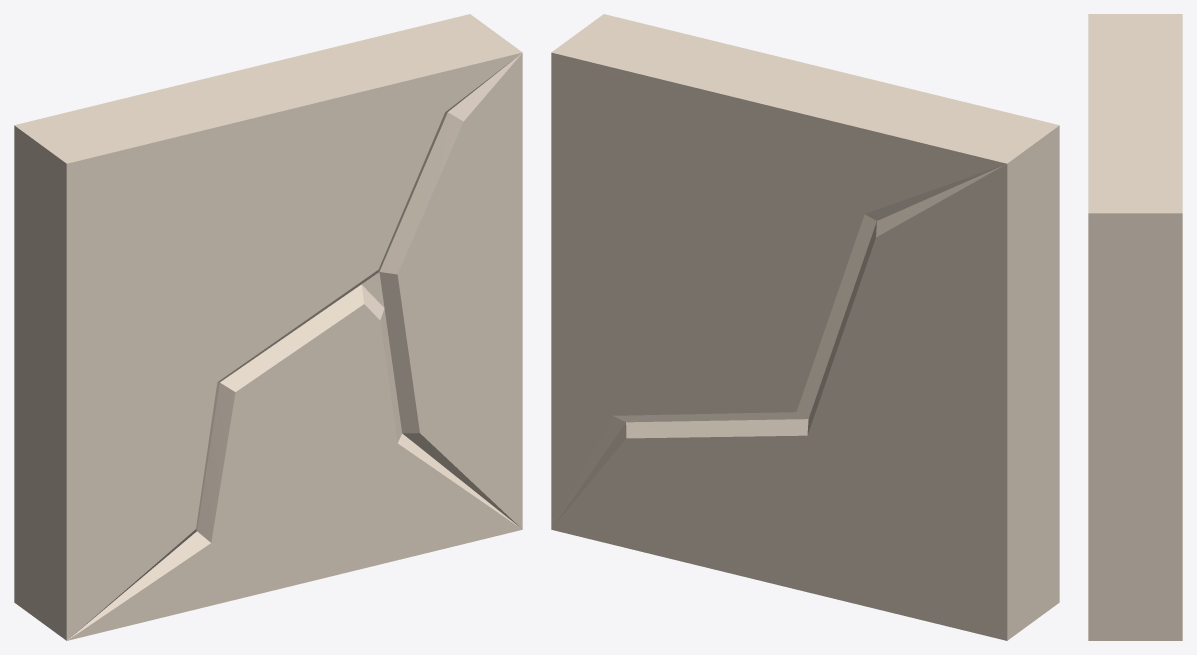
The model's file is temple_Wall_Ruined_Full_Cracked_1.glb.
3 renders of one model, left to right at view 1: azimuth 30°, elevation 25°; view 2: azimuth 150°, elevation 25°; view 3: azimuth 270°, elevation 25°, orthographic. The views are drawn at different scales.
Visible parts, largest first — view 1: object1; view 2: object1; view 3: object1.
Boxes of the visible parts, x1,y1,x2,y2 form: object1: (14, 14, 522, 640); object1: (551, 14, 1059, 640); object1: (1088, 14, 1182, 640).
Bounding box in the file's own units: 1 × 1 × 0.2.
